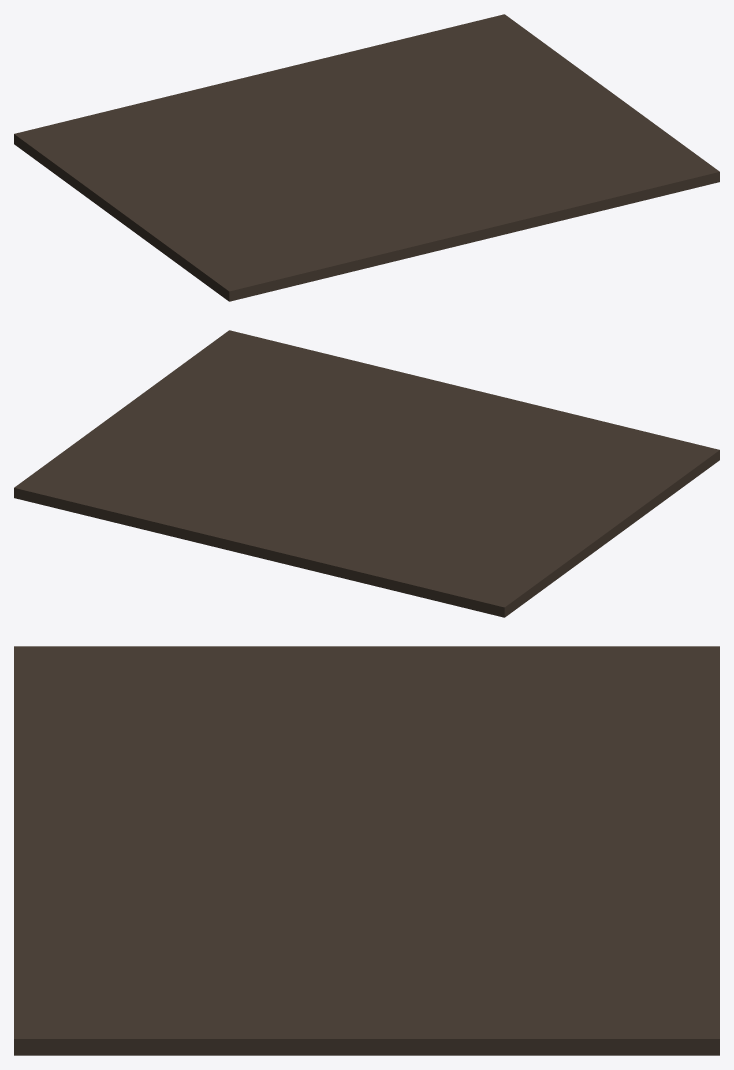
Rendered from warren_ceiling.glb.
3 renders of one model, top to bottom at view 1: azimuth 30°, elevation 25°; view 2: azimuth 150°, elevation 25°; view 3: azimuth 270°, elevation 25°, orthographic. The views are drawn at different scales.
Parts seen in each view (by area): view 1: roof; view 2: roof; view 3: roof.
Boxes of the visible parts, bbox=[...] form: roof: bbox=[14, 14, 719, 301]; roof: bbox=[14, 330, 719, 617]; roof: bbox=[14, 646, 719, 1055].
Bounding box in the file's own units: 50 × 2.46 × 38.
